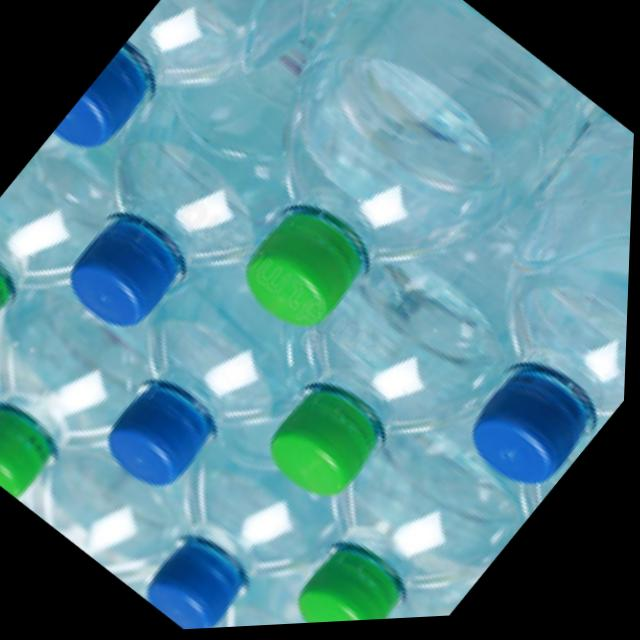plastic_water_bottles: (164, 0, 599, 406), (413, 140, 635, 515), (45, 0, 385, 231), (279, 422, 543, 628), (68, 298, 283, 521), (115, 451, 333, 635), (249, 355, 424, 531), (47, 201, 202, 357), (0, 156, 104, 369), (0, 346, 99, 507)
